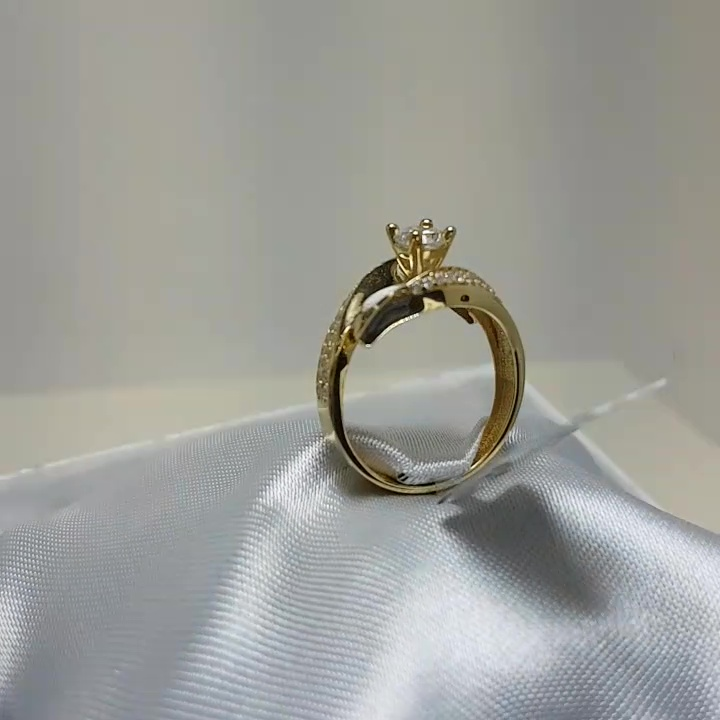Ring 6: (261, 186, 547, 511)
